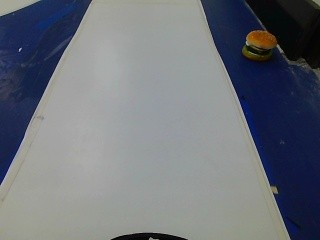burger: (241, 25, 283, 65)
